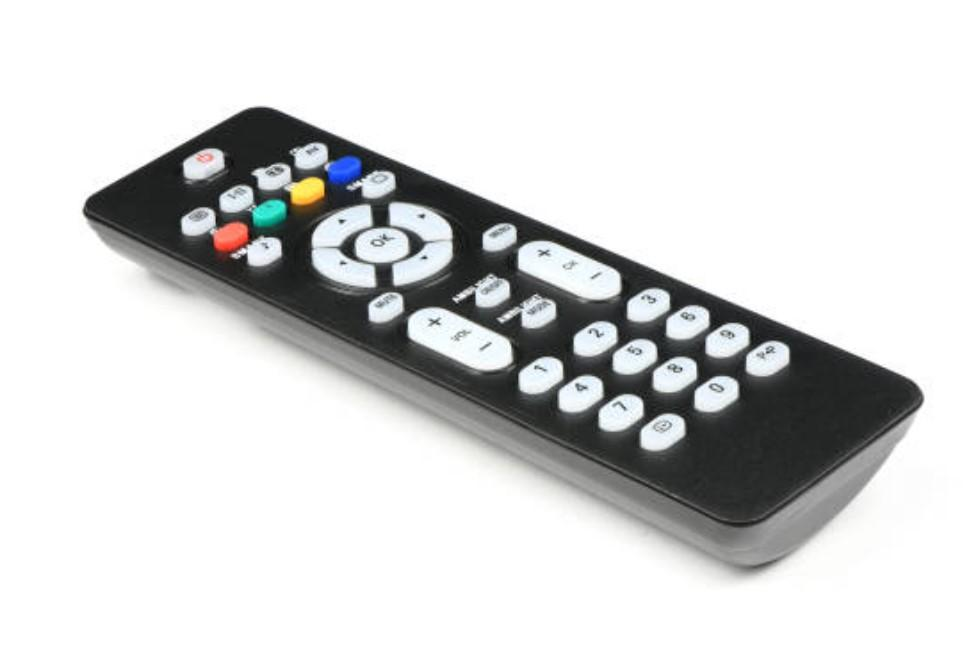Remote control: (81, 106, 927, 572)
